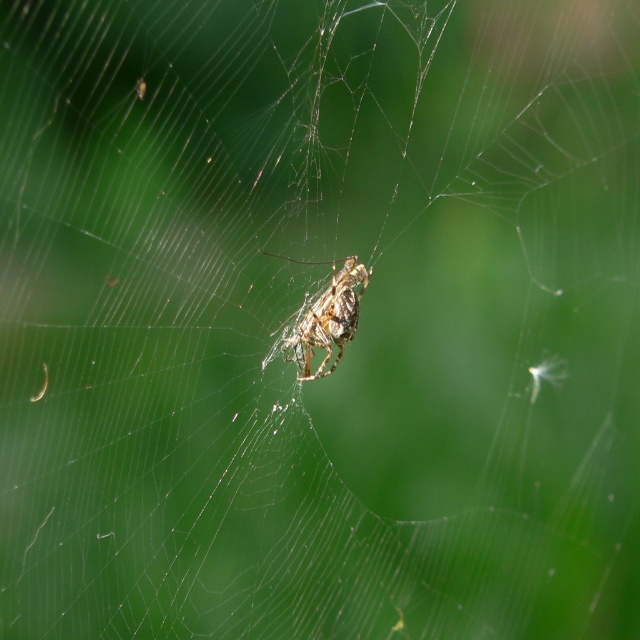Spider: (258, 248, 373, 381)
